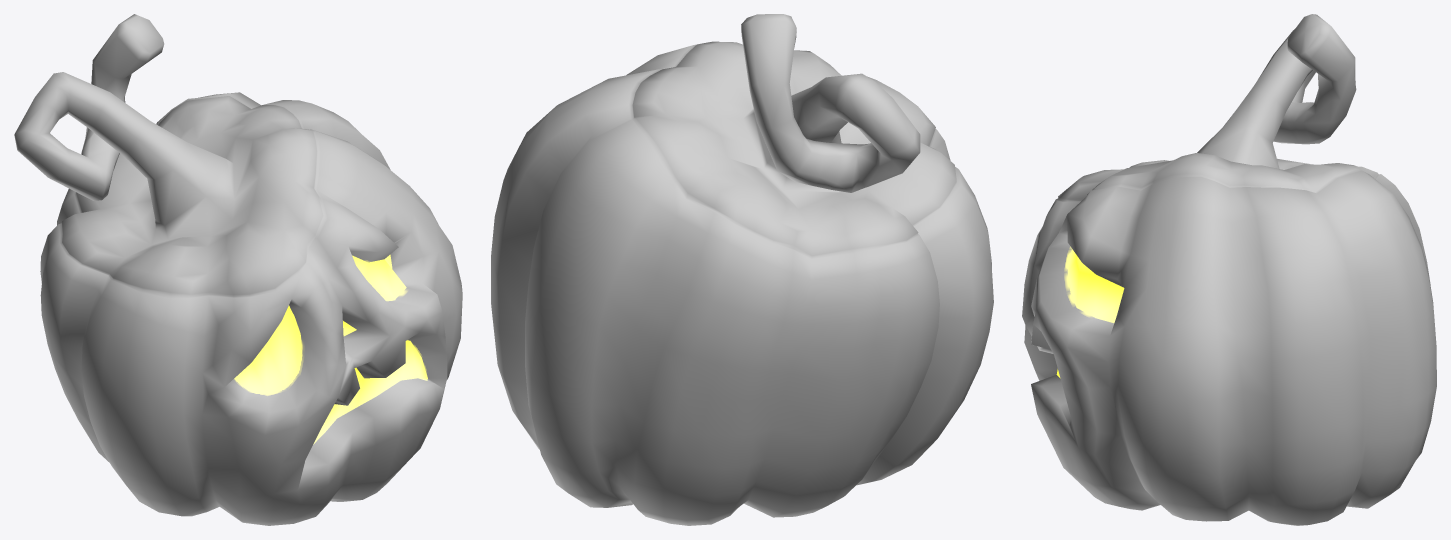
Rendered from PumpkinLampV2.fbx.
3 renders of one model, left to right at view 1: azimuth 30°, elevation 25°; view 2: azimuth 150°, elevation 25°; view 3: azimuth 270°, elevation 25°, orthographic. The views are drawn at different scales.
Parts seen in each view (by area): view 1: PumpkinLampV2; view 2: PumpkinLampV2; view 3: PumpkinLampV2.
Part boxes in pixels (<box>): PumpkinLampV2: <box>14,14,462,525</box>; PumpkinLampV2: <box>491,14,993,525</box>; PumpkinLampV2: <box>1022,14,1436,525</box>.
Bounding box in the file's own units: 152 × 171 × 148.
